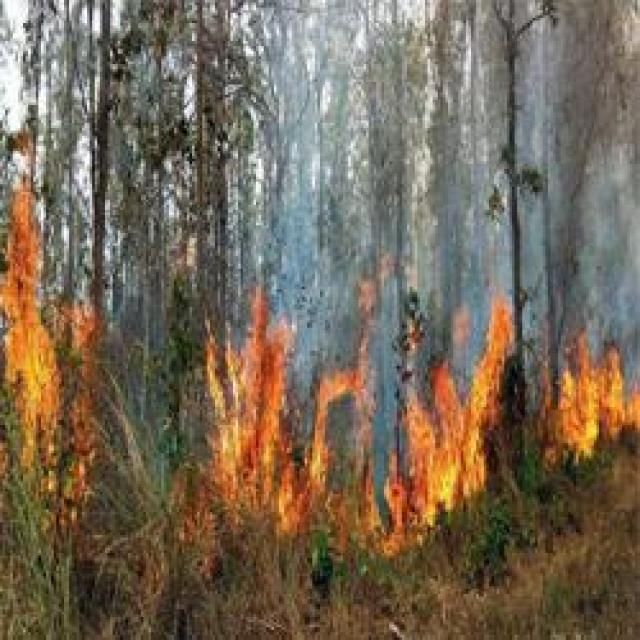fire: (191, 290, 367, 544), (0, 138, 115, 498), (391, 288, 526, 551), (536, 335, 640, 440)
